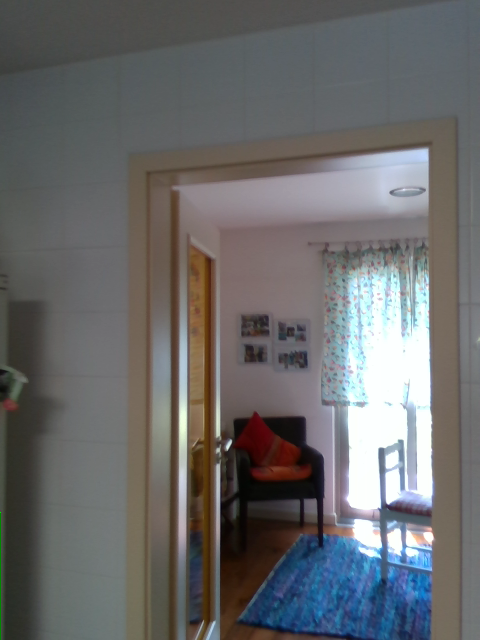open: (131, 115, 463, 639)
